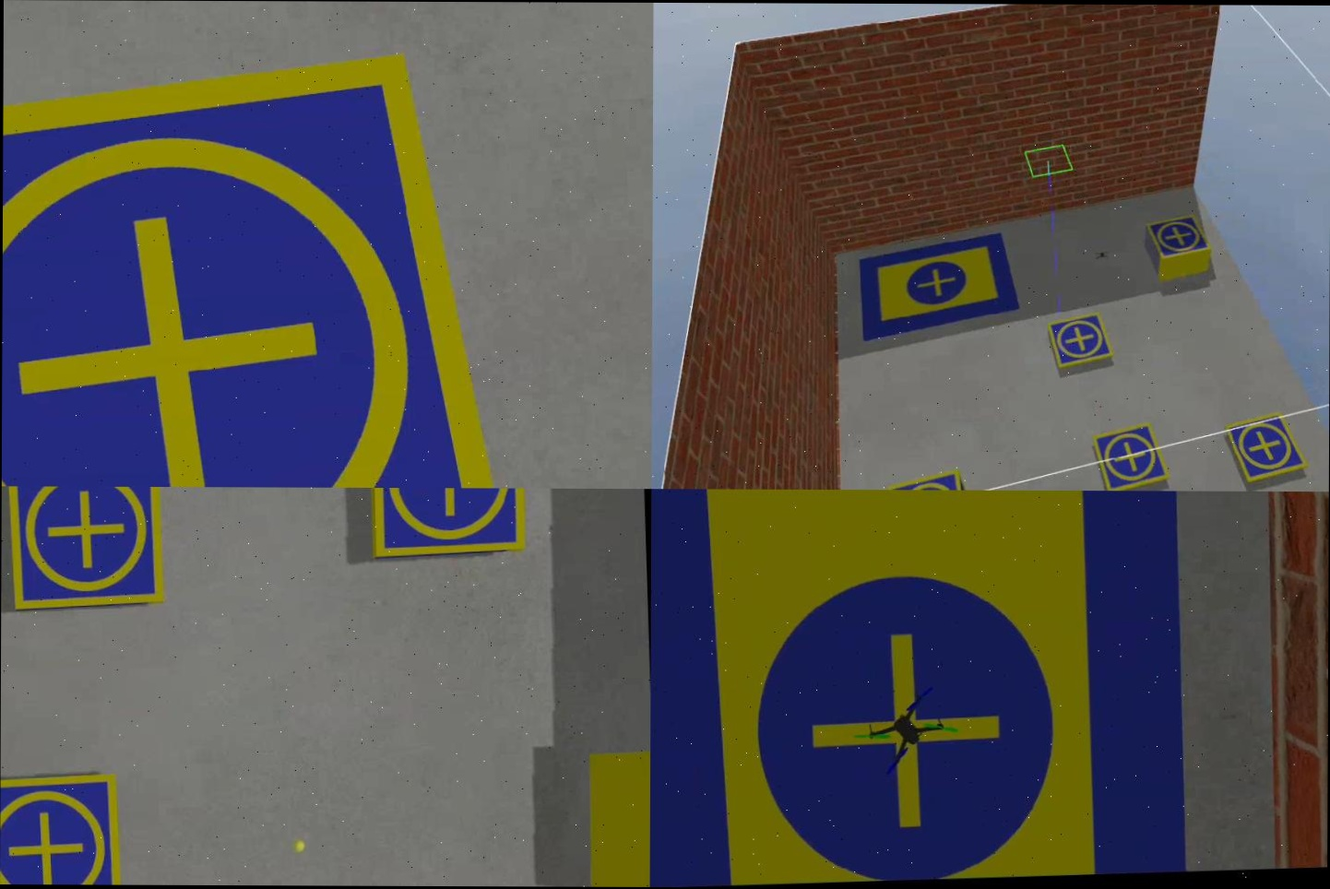large_base: (650, 489, 1187, 888), (861, 233, 1023, 342)
small_base: (2, 48, 525, 489), (6, 486, 167, 612), (0, 773, 126, 884), (367, 488, 530, 558), (1226, 411, 1309, 487), (1092, 422, 1170, 492), (1047, 313, 1115, 371), (1146, 215, 1213, 262), (887, 469, 972, 491)
